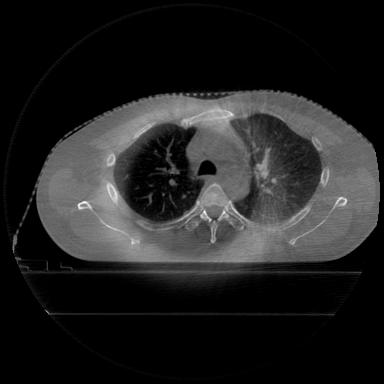body: (37, 90, 378, 262)
cord: (200, 183, 229, 218)
paru kanan: (116, 123, 203, 221)
paru kiri: (231, 113, 322, 223)
